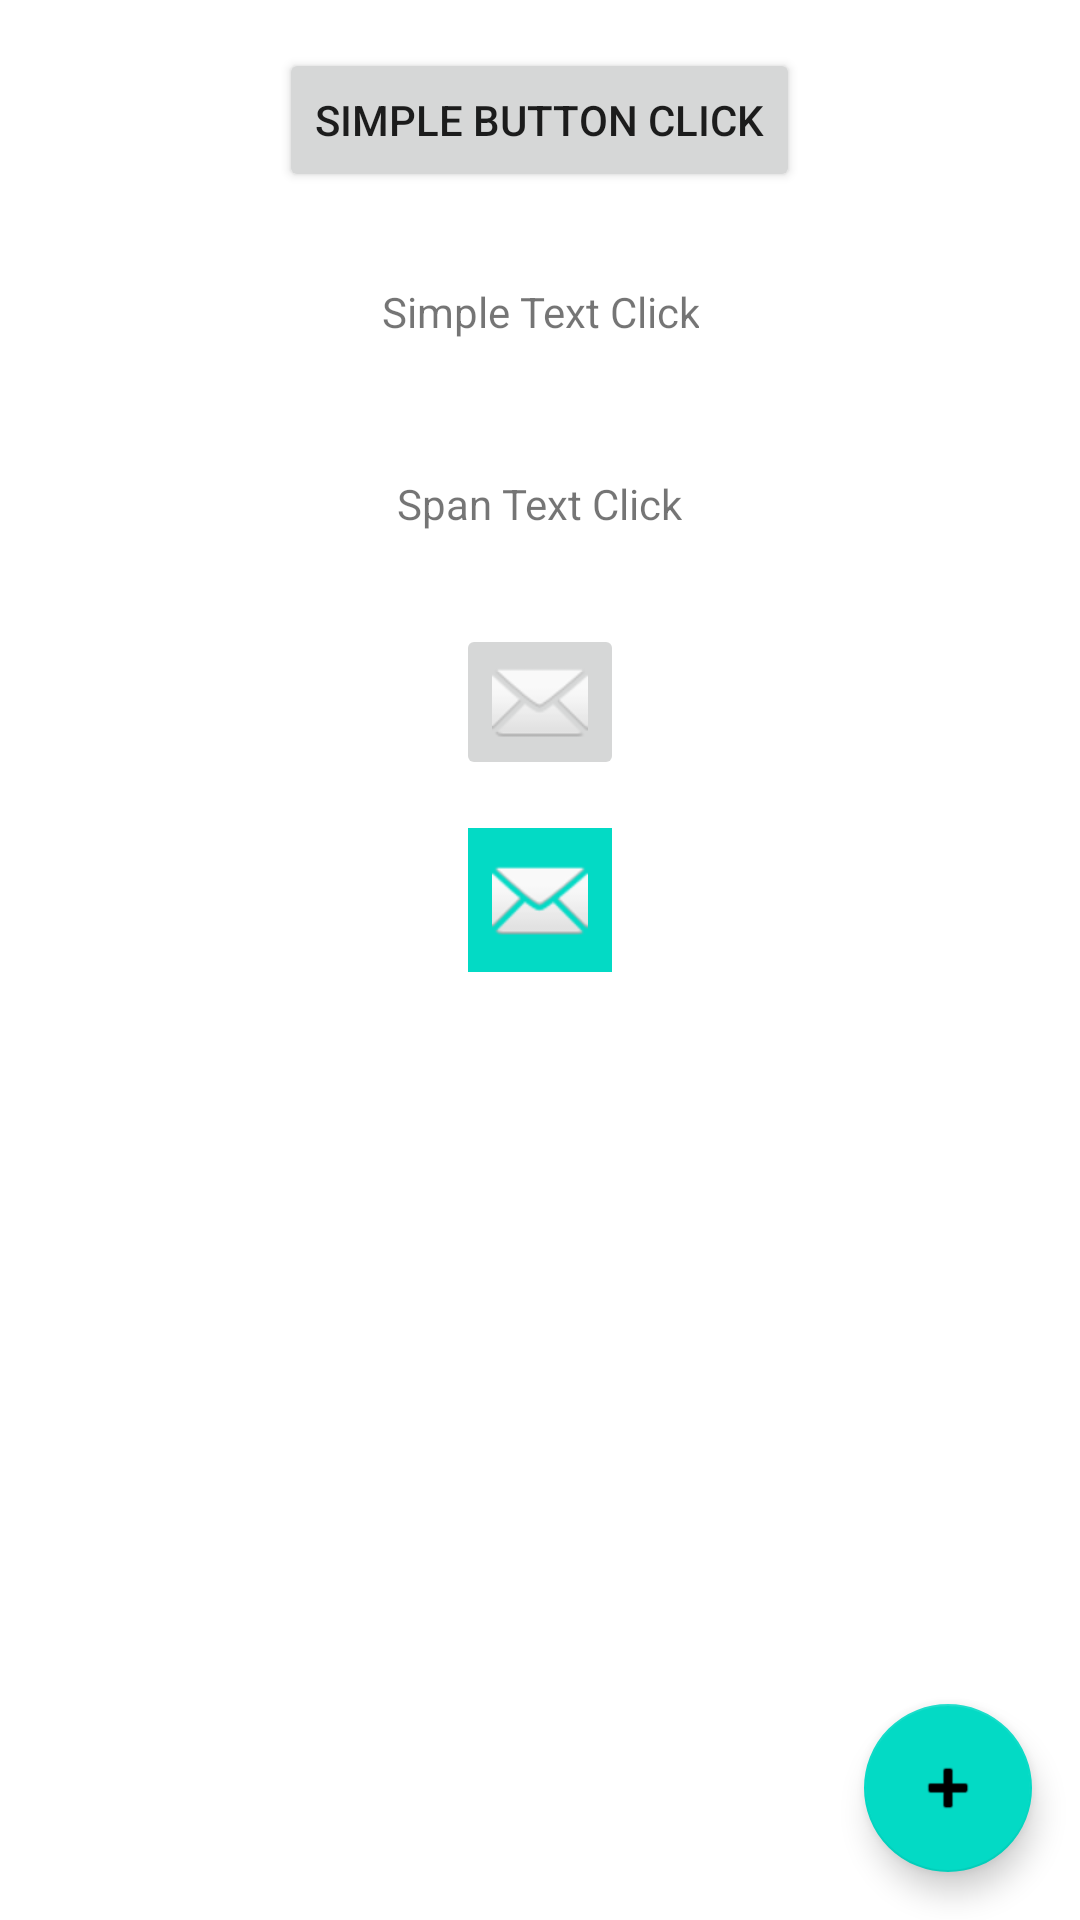

Icon click points for this 1080 x 1920 phone screenshot, format [x,y]:
Add Item: [948,1788]
Email Button: [540,702]
Email Image: [540,900]
